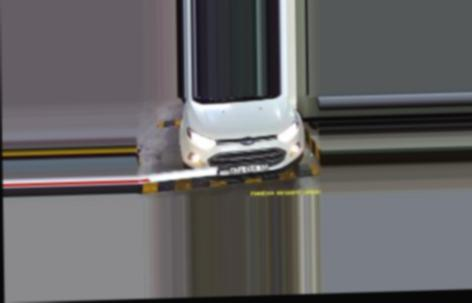License_Plate: (227, 163, 270, 174)
